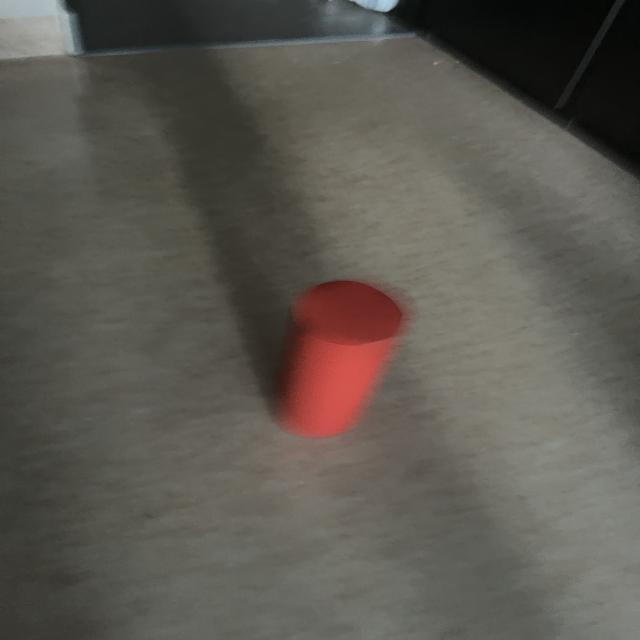przeszkoda: (279, 281, 403, 437)
